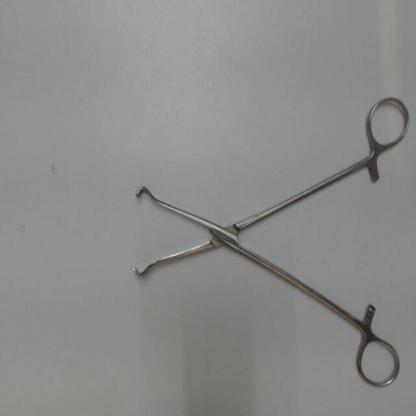8 Babcock Tissue Forceps: (125, 88, 416, 394)
